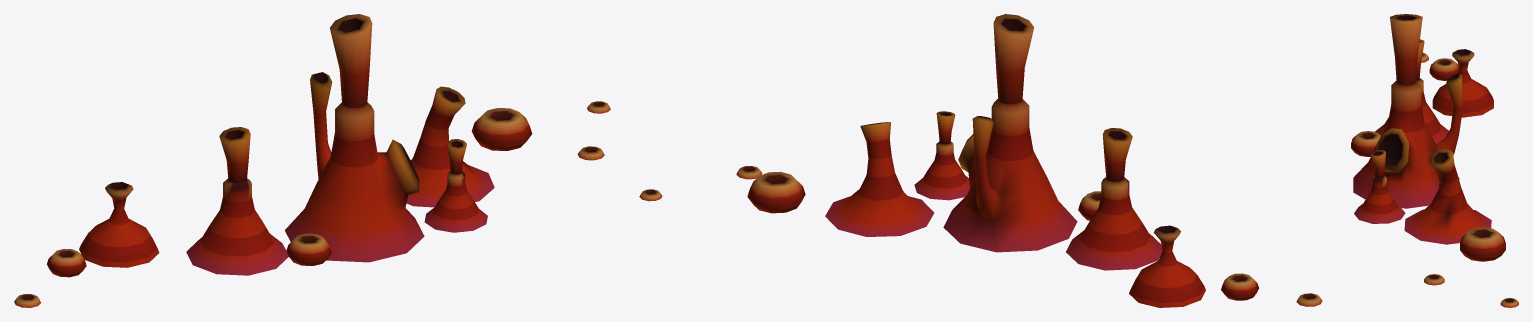
Rendered from Alien_Pipe01.fbx.
3 renders of one model, left to right at view 1: azimuth 30°, elevation 25°; view 2: azimuth 150°, elevation 25°; view 3: azimuth 270°, elevation 25°, orthographic. The views are drawn at different scales.
Visible parts, largest first — view 1: Alien_Pipe01; view 2: Alien_Pipe01; view 3: Alien_Pipe01.
Boxes of the visible parts, x1,y1,x2,y2 form: Alien_Pipe01: (14,14,610,307); Alien_Pipe01: (639,14,1322,307); Alien_Pipe01: (1351,14,1518,307).
Size of the model in its own units: 5266 by 1644 by 1481.
